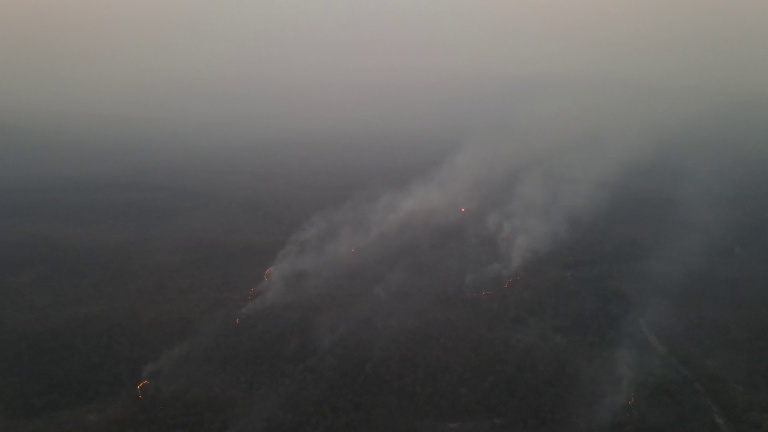fire: (469, 270, 522, 301), (234, 285, 256, 330), (621, 389, 641, 421), (132, 378, 152, 402), (262, 263, 277, 284), (348, 243, 356, 255), (460, 207, 468, 214)
smoke: (239, 116, 599, 339), (593, 200, 711, 425), (139, 336, 199, 380)
